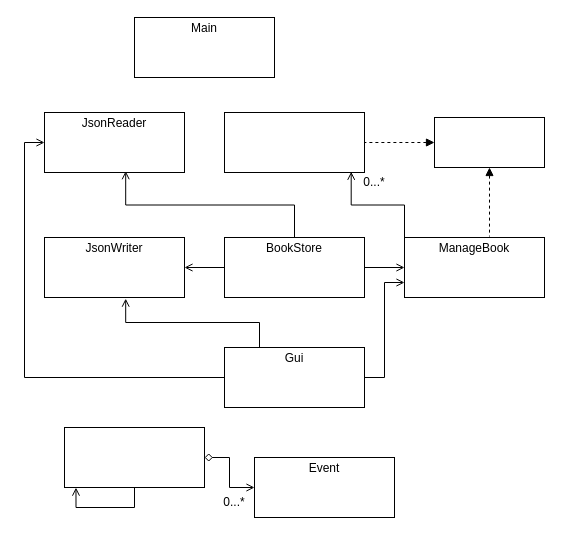
This 562x535 diagram has some shape labels left out. The box of each missing label's shape, as (x1, y1, x2, y2) in pixels:
Book: (224, 112, 364, 172)
EventLog: (64, 426, 204, 488)
«Interface» Writable: (434, 116, 544, 168)
